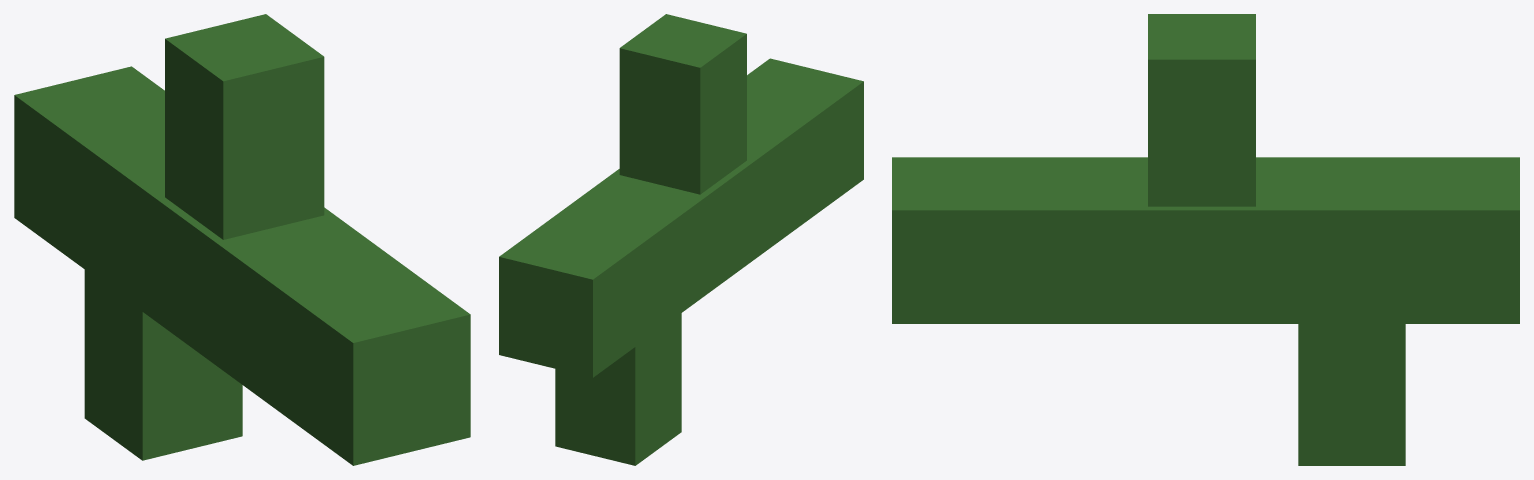
File: Cacti 3.fbx
3 views of the same model, side by side, from view 1: azimuth 30°, elevation 25°; view 2: azimuth 150°, elevation 25°; view 3: azimuth 270°, elevation 25° (orthographic). The views are drawn at different scales.
Parts seen in each view (by area): view 1: Cactus 3; view 2: Cactus 3; view 3: Cactus 3.
Boxes of the visible parts, x1=… form: Cactus 3: x1=14, y1=14, x2=470, y2=465; Cactus 3: x1=499, y1=14, x2=863, y2=465; Cactus 3: x1=892, y1=14, x2=1519, y2=465.
Bounding box in the file's own units: 50 × 179 × 250.
